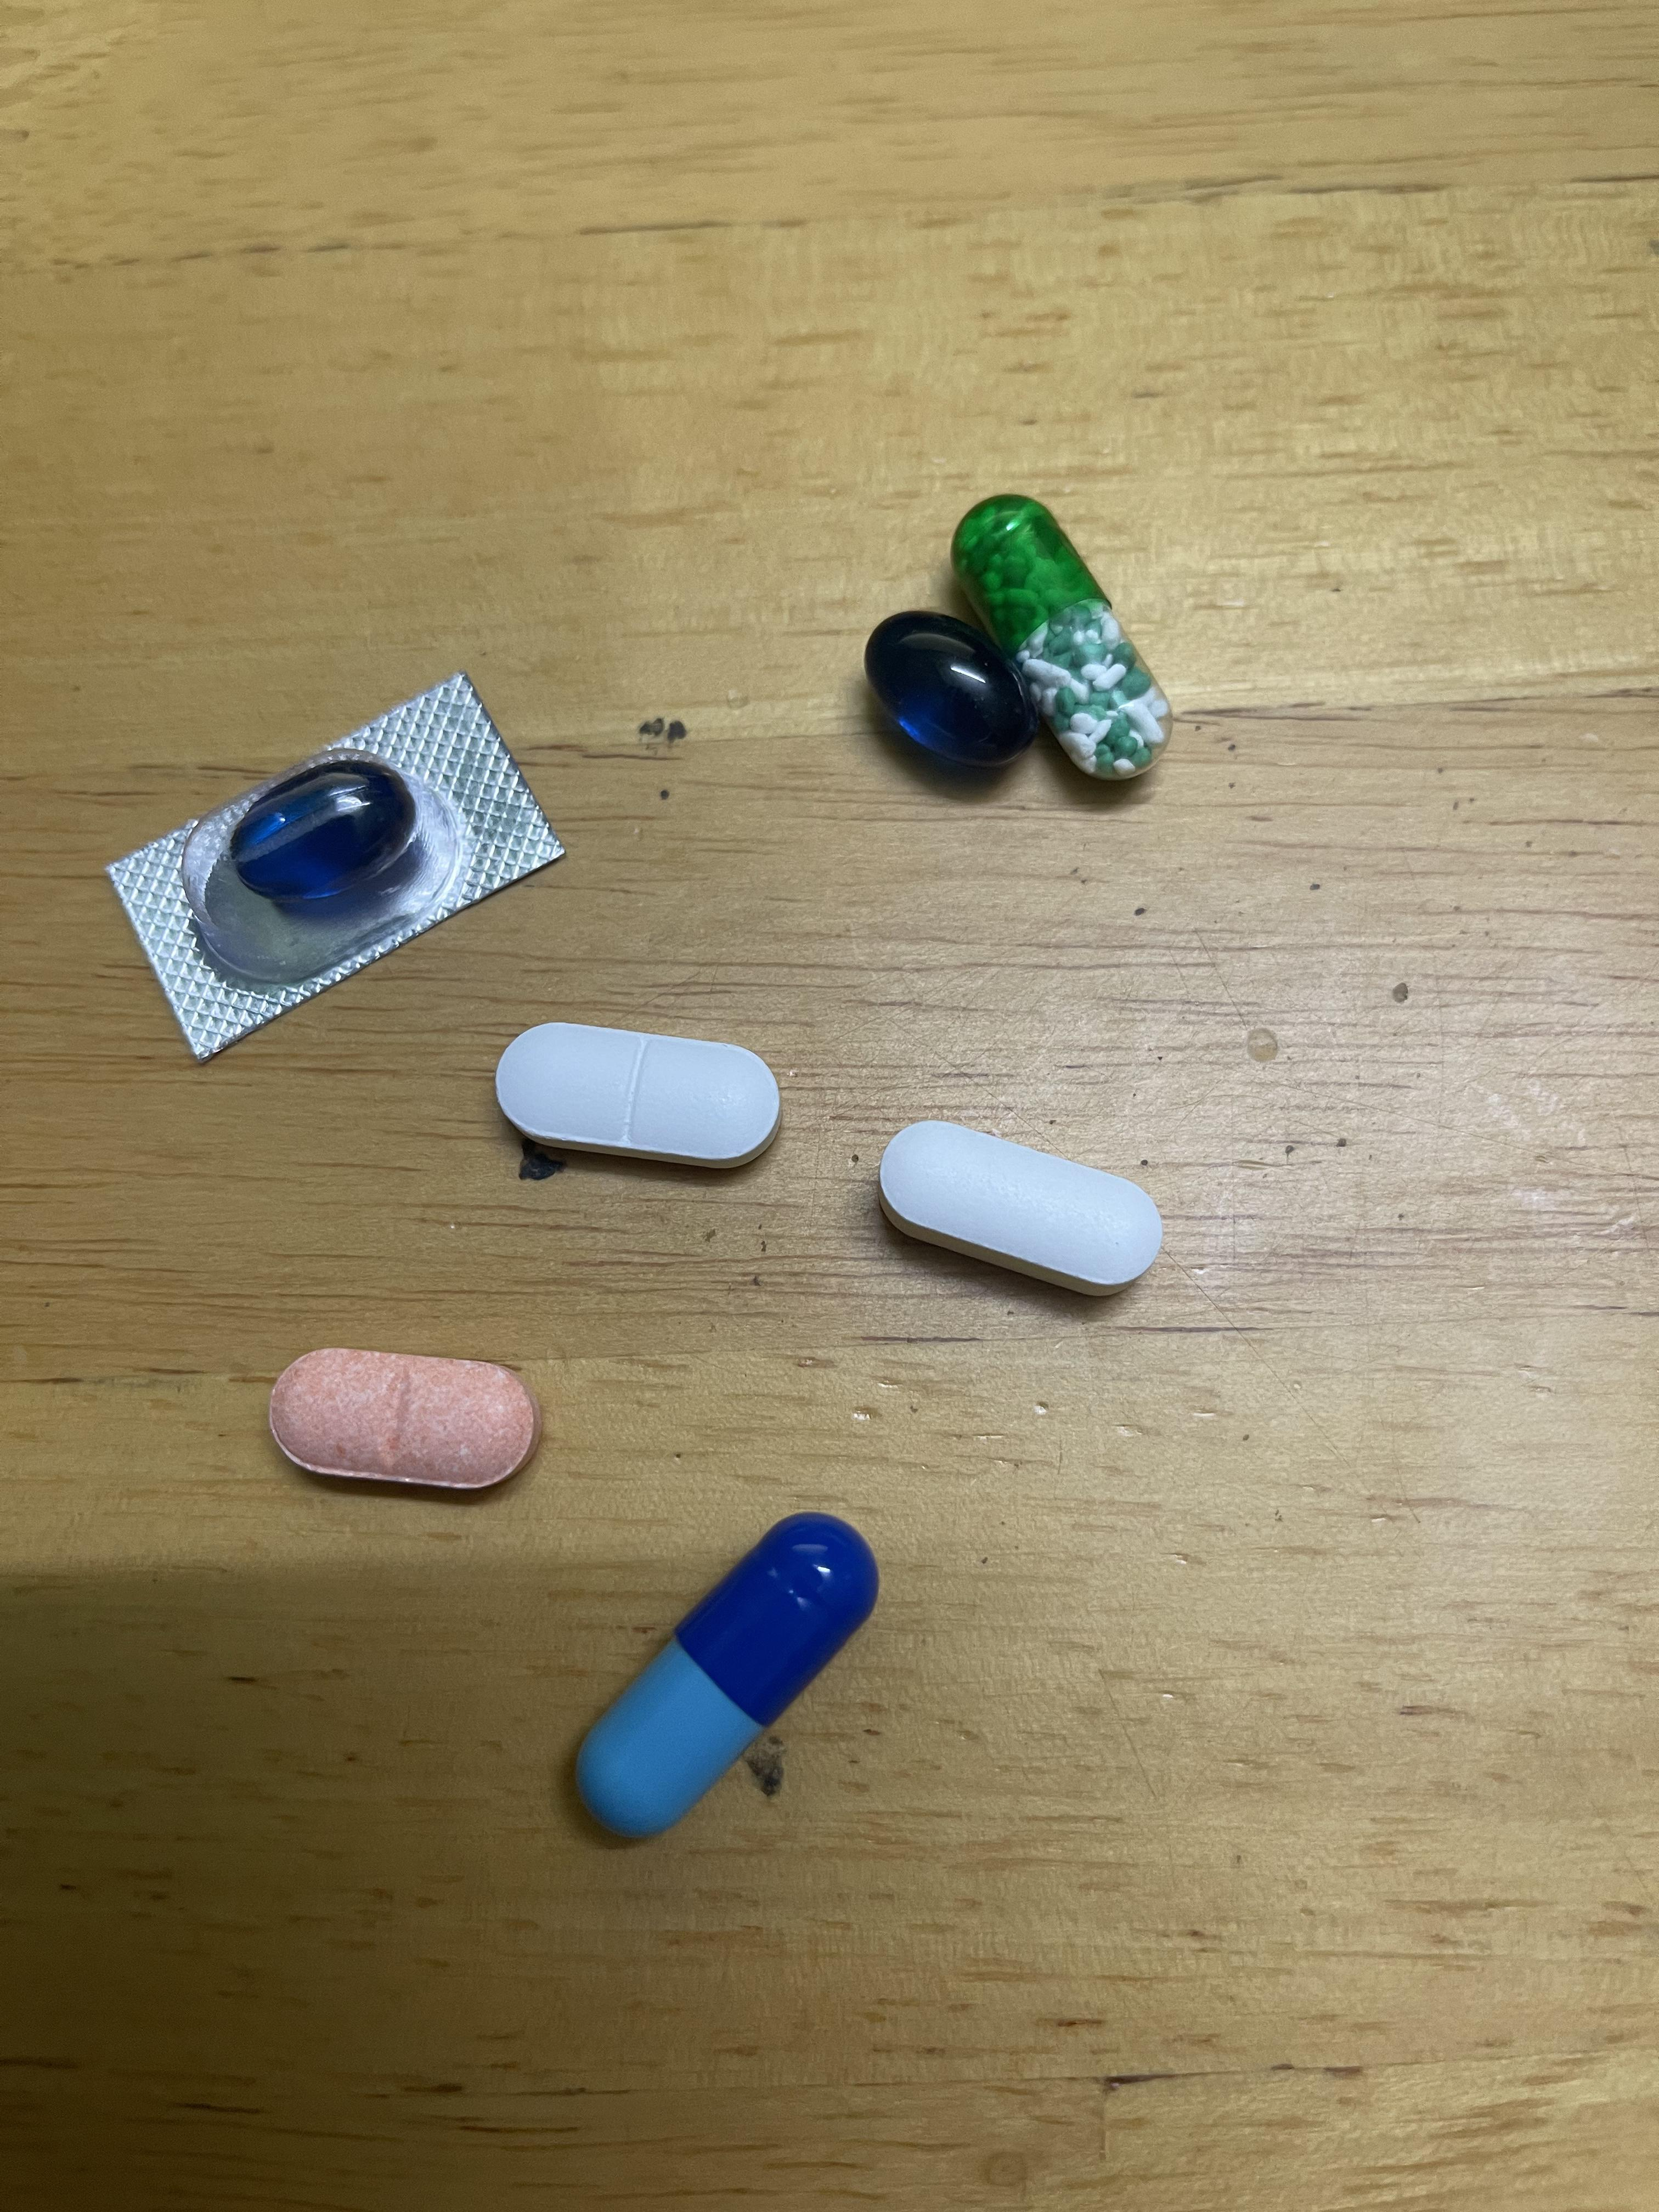Lincomyxin_500mg: (225, 758, 423, 906), (863, 610, 1046, 770)
Loratadine_10mg: (267, 1348, 535, 1494)
Paracetamol_350mg: (498, 1024, 775, 1165)
Paracetamol_500mg: (880, 1118, 1155, 1291)
Paracetamol_650mg: (957, 503, 1166, 777)
pill: (573, 1512, 871, 1848)
